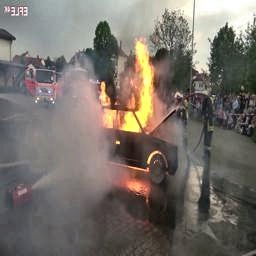fire: (88, 40, 178, 188)
